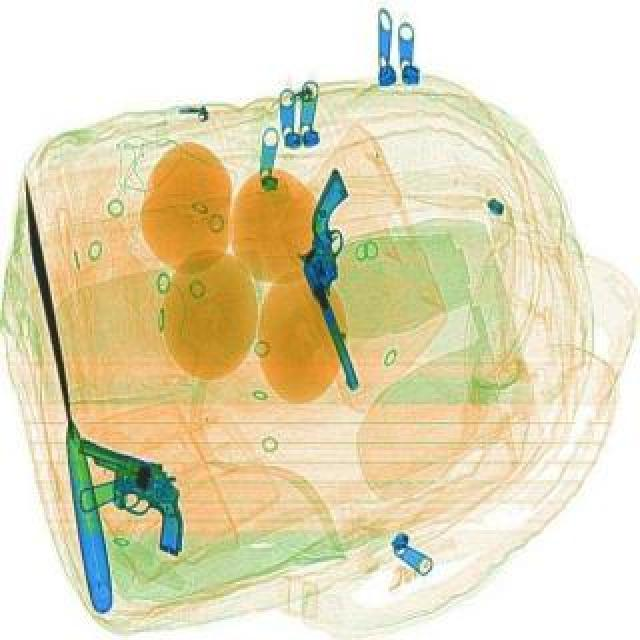gun: (270, 164, 414, 388), (50, 430, 214, 554)
knife: (6, 172, 116, 610)
